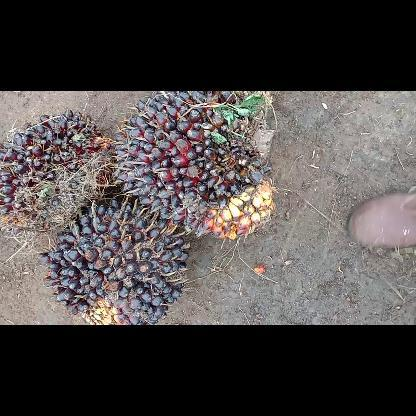TBS mentah: (110, 91, 282, 242), (36, 196, 192, 324), (0, 108, 112, 232)
